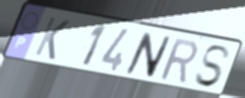1: (77, 23, 109, 68)
4: (99, 26, 130, 75)
K: (31, 15, 72, 62)
N: (122, 31, 174, 81)
R: (158, 37, 200, 86)
S: (193, 44, 232, 89)
